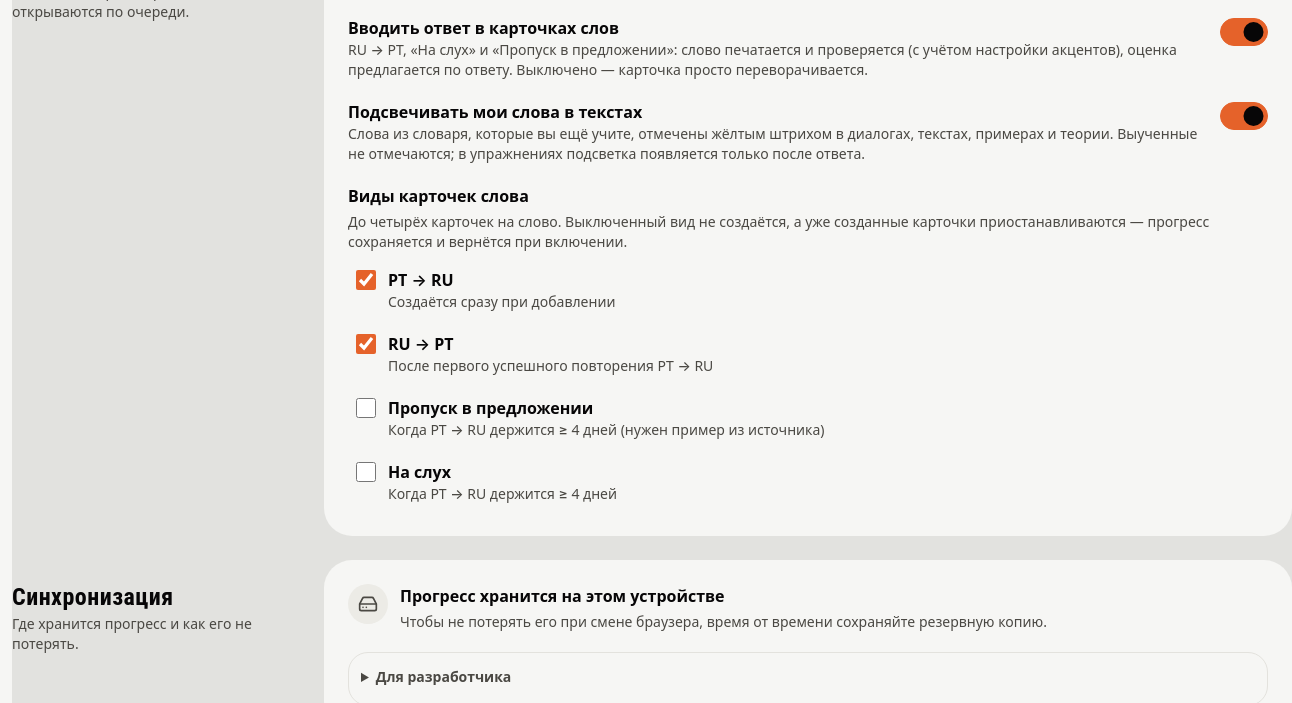
Test: SettingsPage: preferences persist to the store › card modes: switching one off saves and reports suspension; the last one cannot be switched off
(page scrolled)
Click the checkbox labelled "RU → PT После первого успешного повторения PT → RU". click: (366,344)
box: [356,334,376,354]
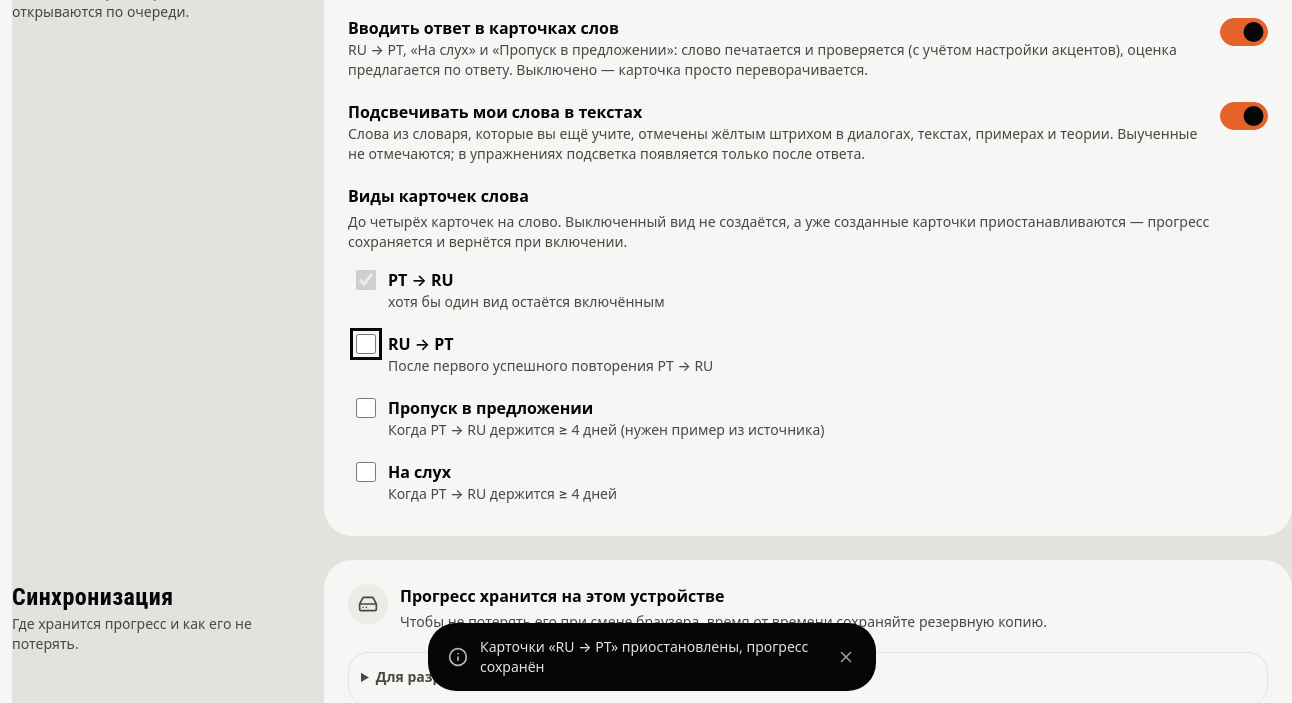
Now the text "Карточки «RU → PT» приостановлены, прогресс сохранён" is shown, box [480,631,812,683]
Click the checkbox labelled "RU → PT После первого успешного повторения PT → RU". click: (366,344)
box: [356,334,376,354]
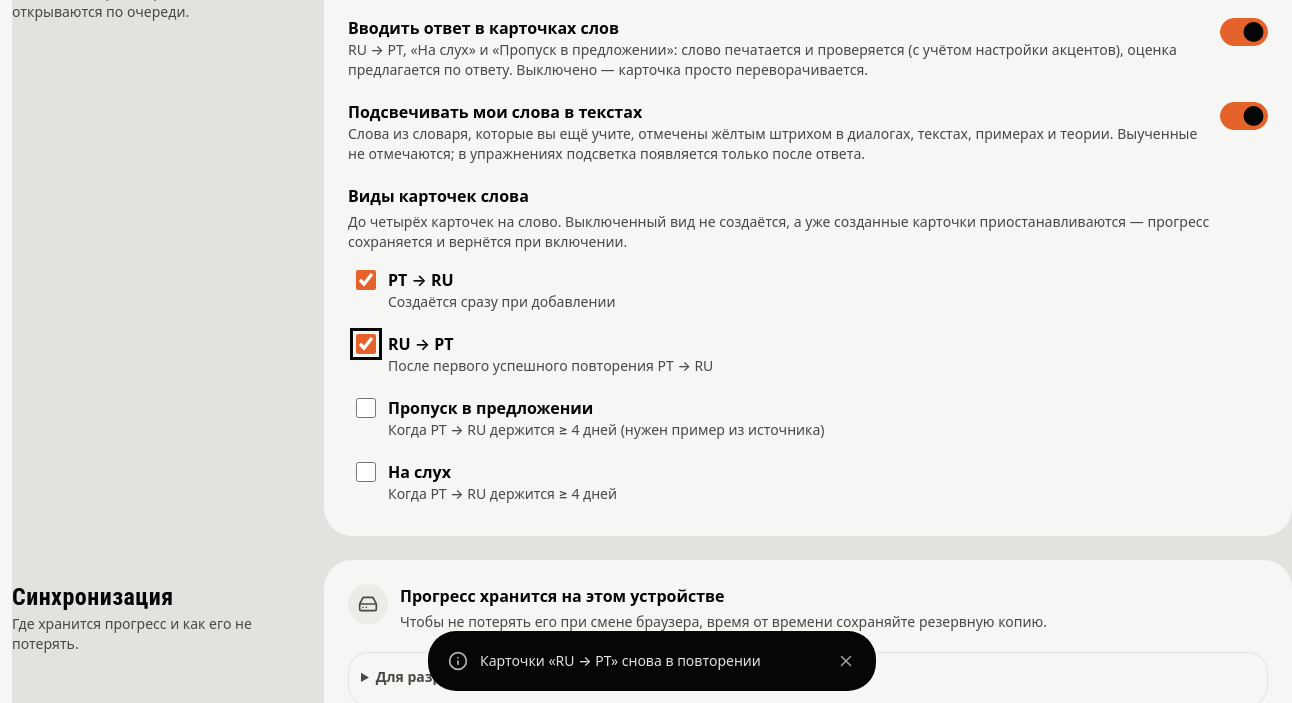
Now the text "Карточки «RU → PT» снова в повторении" is shown, box [480,651,761,670]
